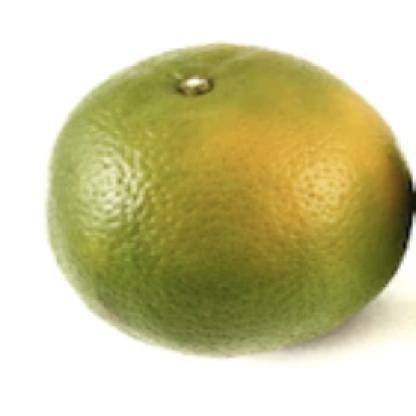fresh: (46, 44, 416, 364)
